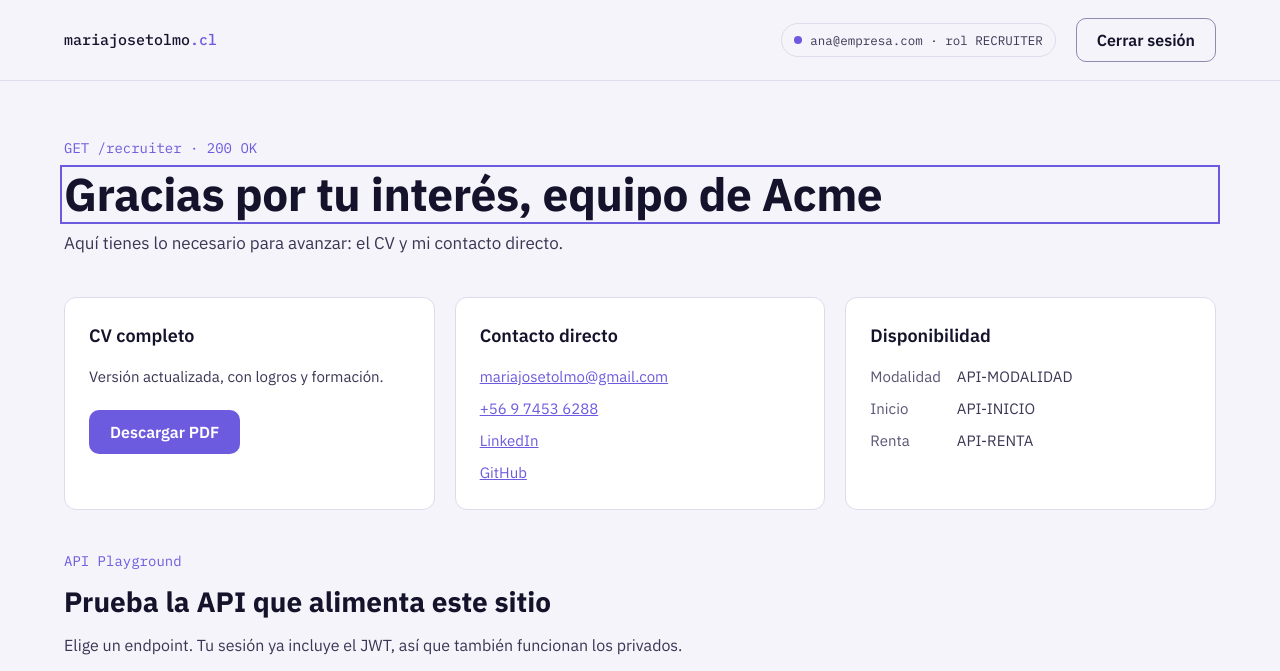
it: RecruiterZone logout › stays and says it could not connect on a network failure
Expected: the heading "Gracias por tu interés, equipo de Acme" is shown, [64,164,882,224]
Step 1. Click the button "Cerrar sesión" → (1146, 40), box [1076,18,1216,62]
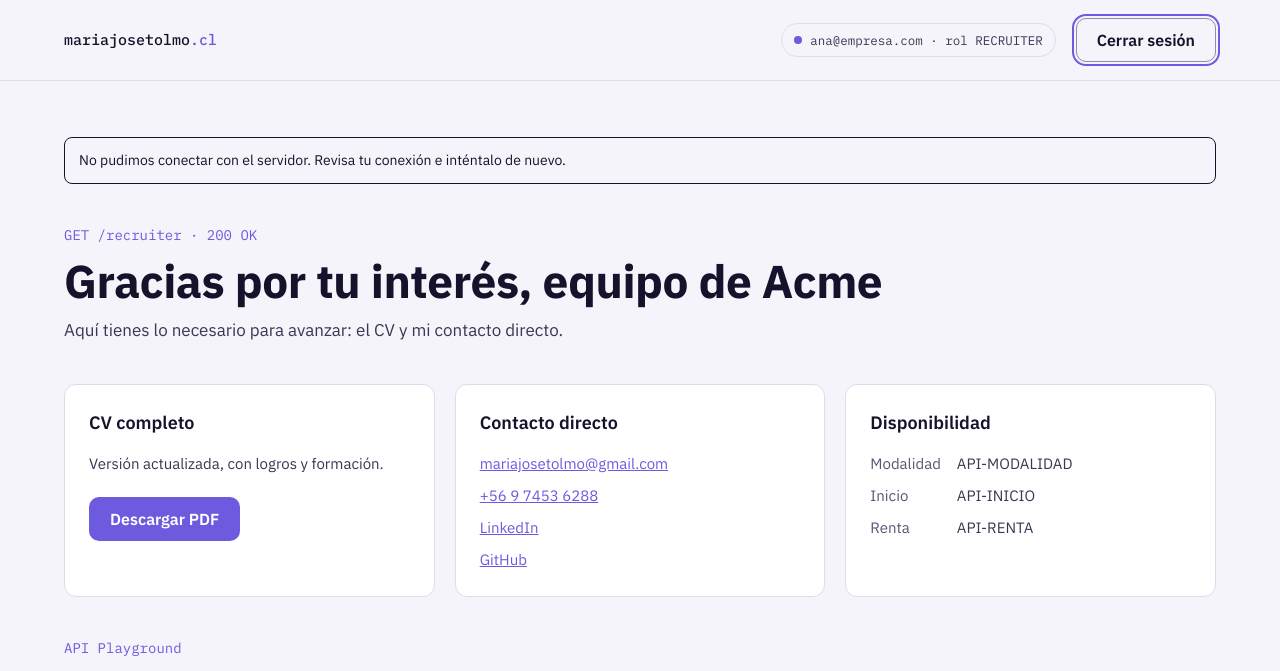
Result: the message shows "No pudimos conectar con el servidor" at [79,151,566,169]
